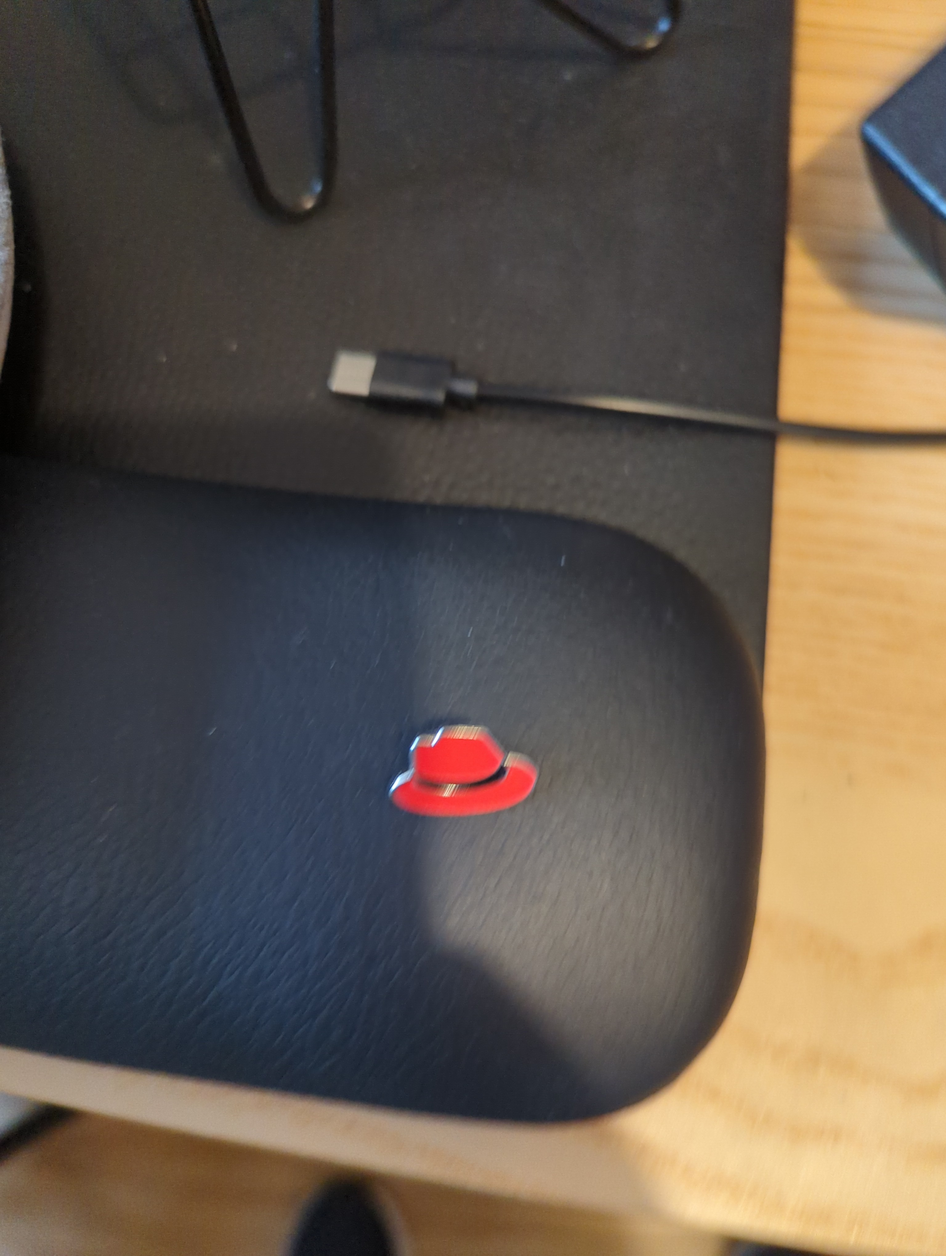Red-Hat: (303, 654, 671, 883)
